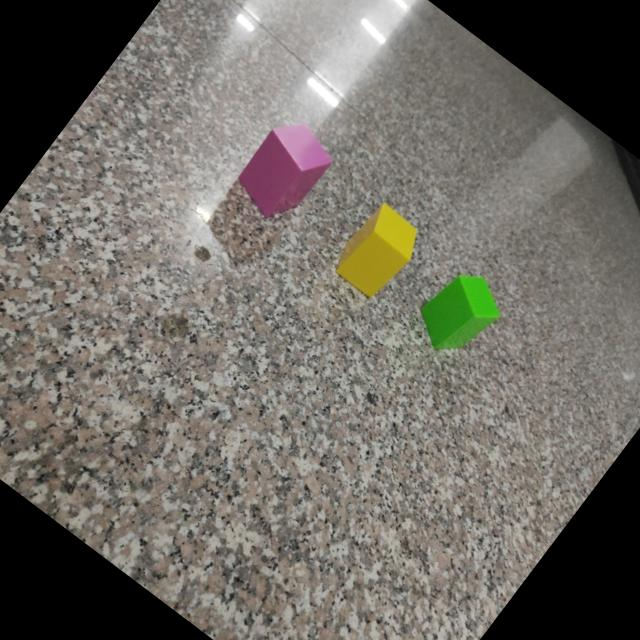green: (419, 276, 499, 352)
pink: (235, 125, 333, 221)
yellow: (336, 207, 418, 299)
